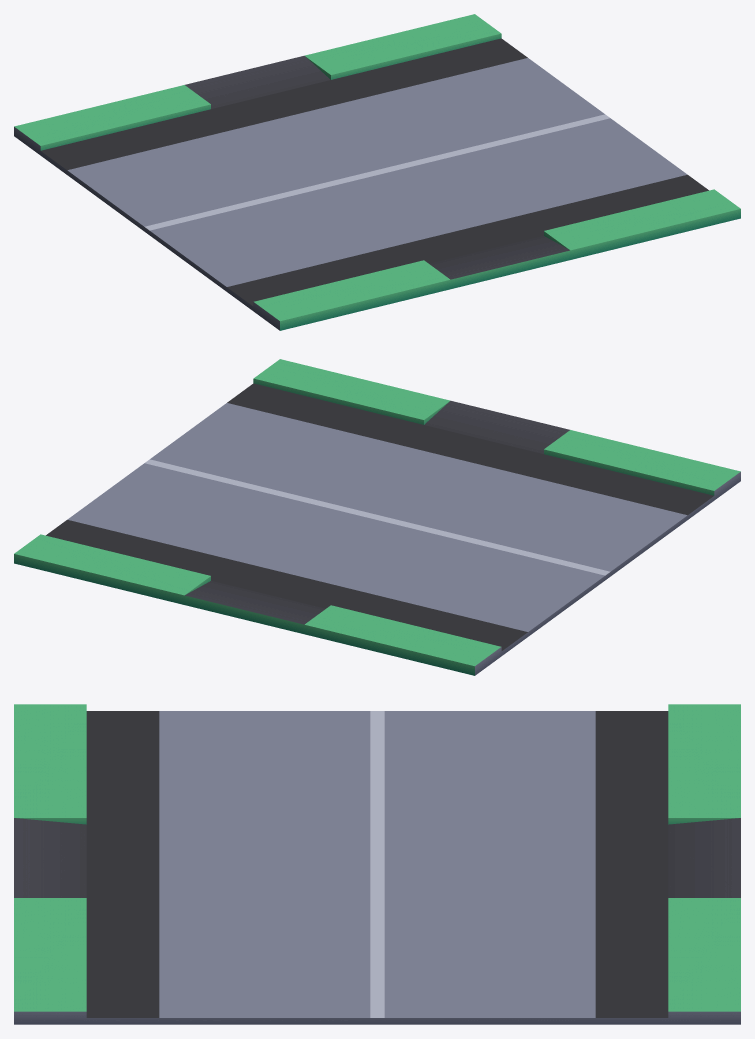
Rendered from road_driveway_double.glb.
3 views of the same model, one above another, from view 1: azimuth 30°, elevation 25°; view 2: azimuth 150°, elevation 25°; view 3: azimuth 270°, elevation 25° (orthographic). The views are drawn at different scales.
Visible parts, largest first — view 1: road-driveway-double; view 2: road-driveway-double; view 3: road-driveway-double.
Boxes of the visible parts, x1=… form: road-driveway-double: x1=14, y1=14, x2=740, y2=330; road-driveway-double: x1=14, y1=359, x2=740, y2=675; road-driveway-double: x1=14, y1=704, x2=740, y2=1024.
Bounding box in the file's own units: 1 × 0.02 × 1.
Materials: 1 (1 with a texture image).
